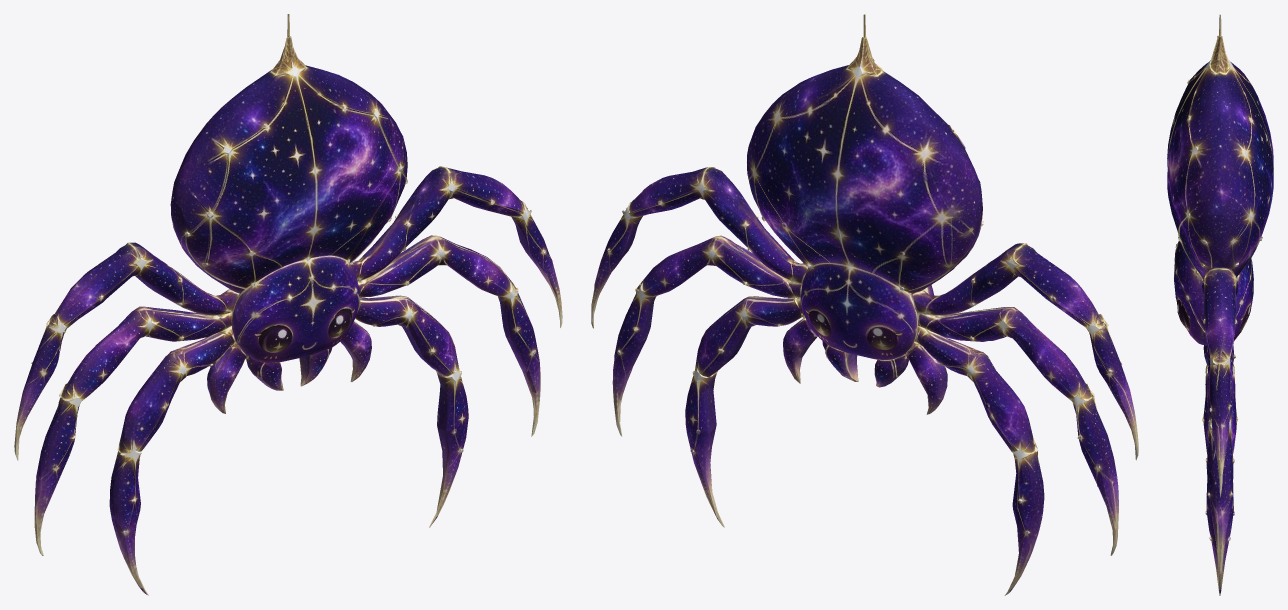
The model's file is spider.glb.
3 views of the same model, side by side, from view 1: azimuth 30°, elevation 25°; view 2: azimuth 150°, elevation 25°; view 3: azimuth 270°, elevation 25° (orthographic). The views are drawn at different scales.
Size of the model in its own units: 1.9 by 1.82 by 0.3401.
Materials: 1 (1 with a texture image).
